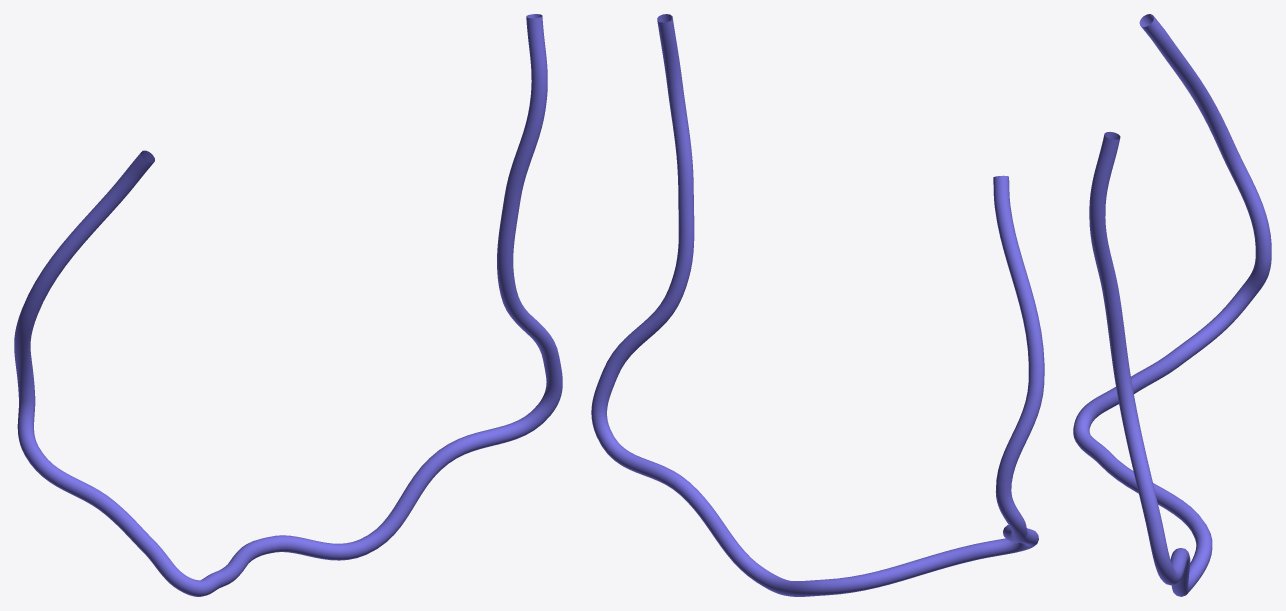
Rendered from Deep_venous_palmar_arch.r_BezierCurve.374.glb.
3 renders of one model, left to right at view 1: azimuth 30°, elevation 25°; view 2: azimuth 150°, elevation 25°; view 3: azimuth 270°, elevation 25°, orthographic. The views are drawn at different scales.
Visible parts, largest first — view 1: Deep_venous_palmar_arch.r_BezierCurve.374; view 2: Deep_venous_palmar_arch.r_BezierCurve.374; view 3: Deep_venous_palmar_arch.r_BezierCurve.374.
Boxes of the visible parts, <box> form: Deep_venous_palmar_arch.r_BezierCurve.374: <box>14,14,562,596</box>; Deep_venous_palmar_arch.r_BezierCurve.374: <box>591,14,1044,596</box>; Deep_venous_palmar_arch.r_BezierCurve.374: <box>1073,14,1271,596</box>.
Bounding box in the file's own units: 0.0487 × 0.0492 × 0.0168.
